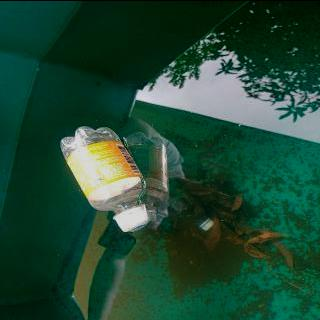bottle: (56, 123, 154, 234)
